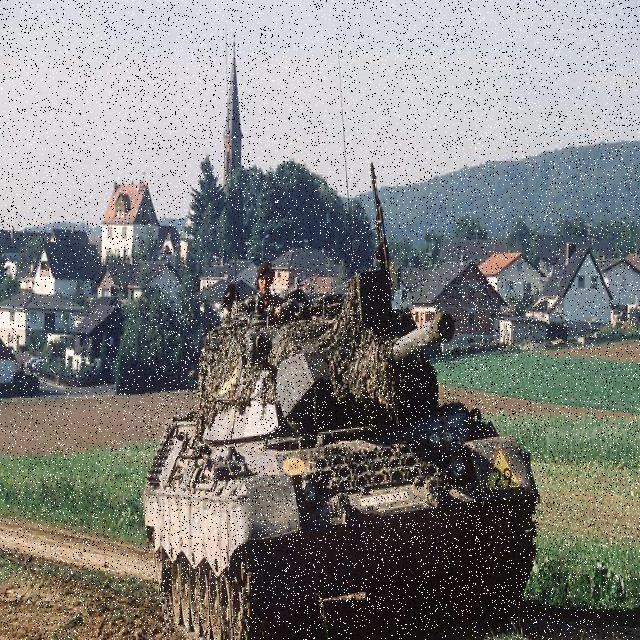MIL_MBT: (145, 278, 541, 626)
